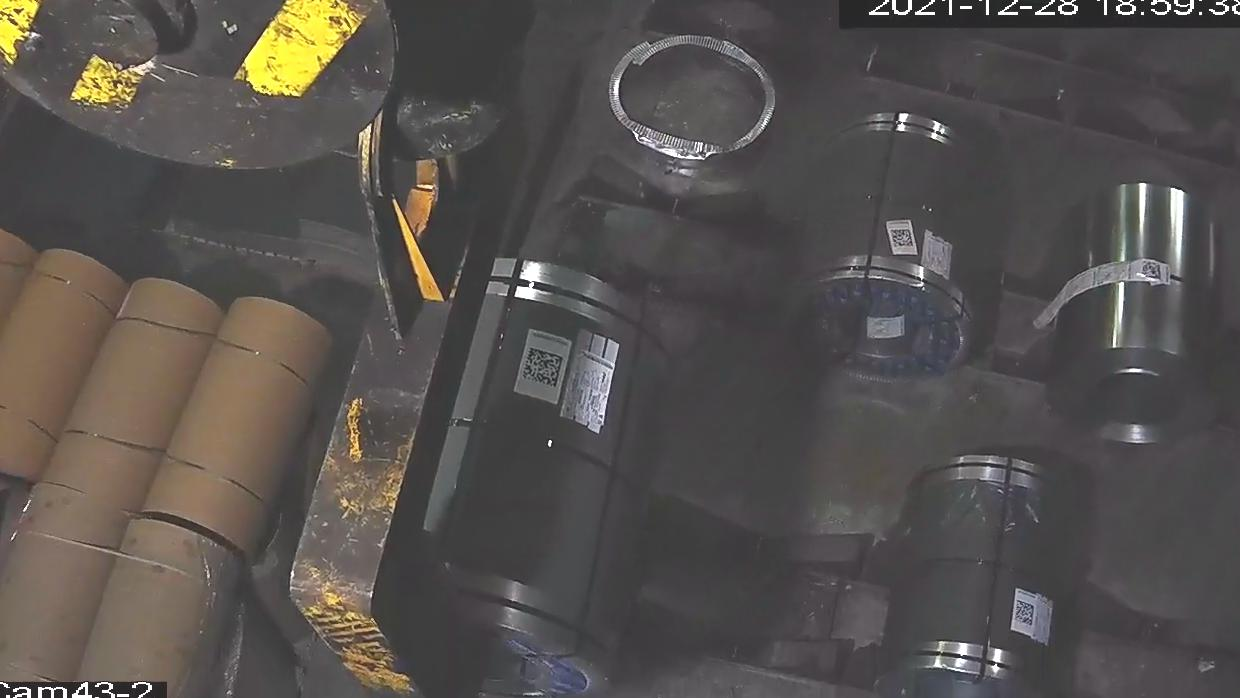data matrix: (519, 345, 566, 391), (1013, 597, 1037, 629), (888, 228, 917, 252), (1140, 260, 1165, 285)
